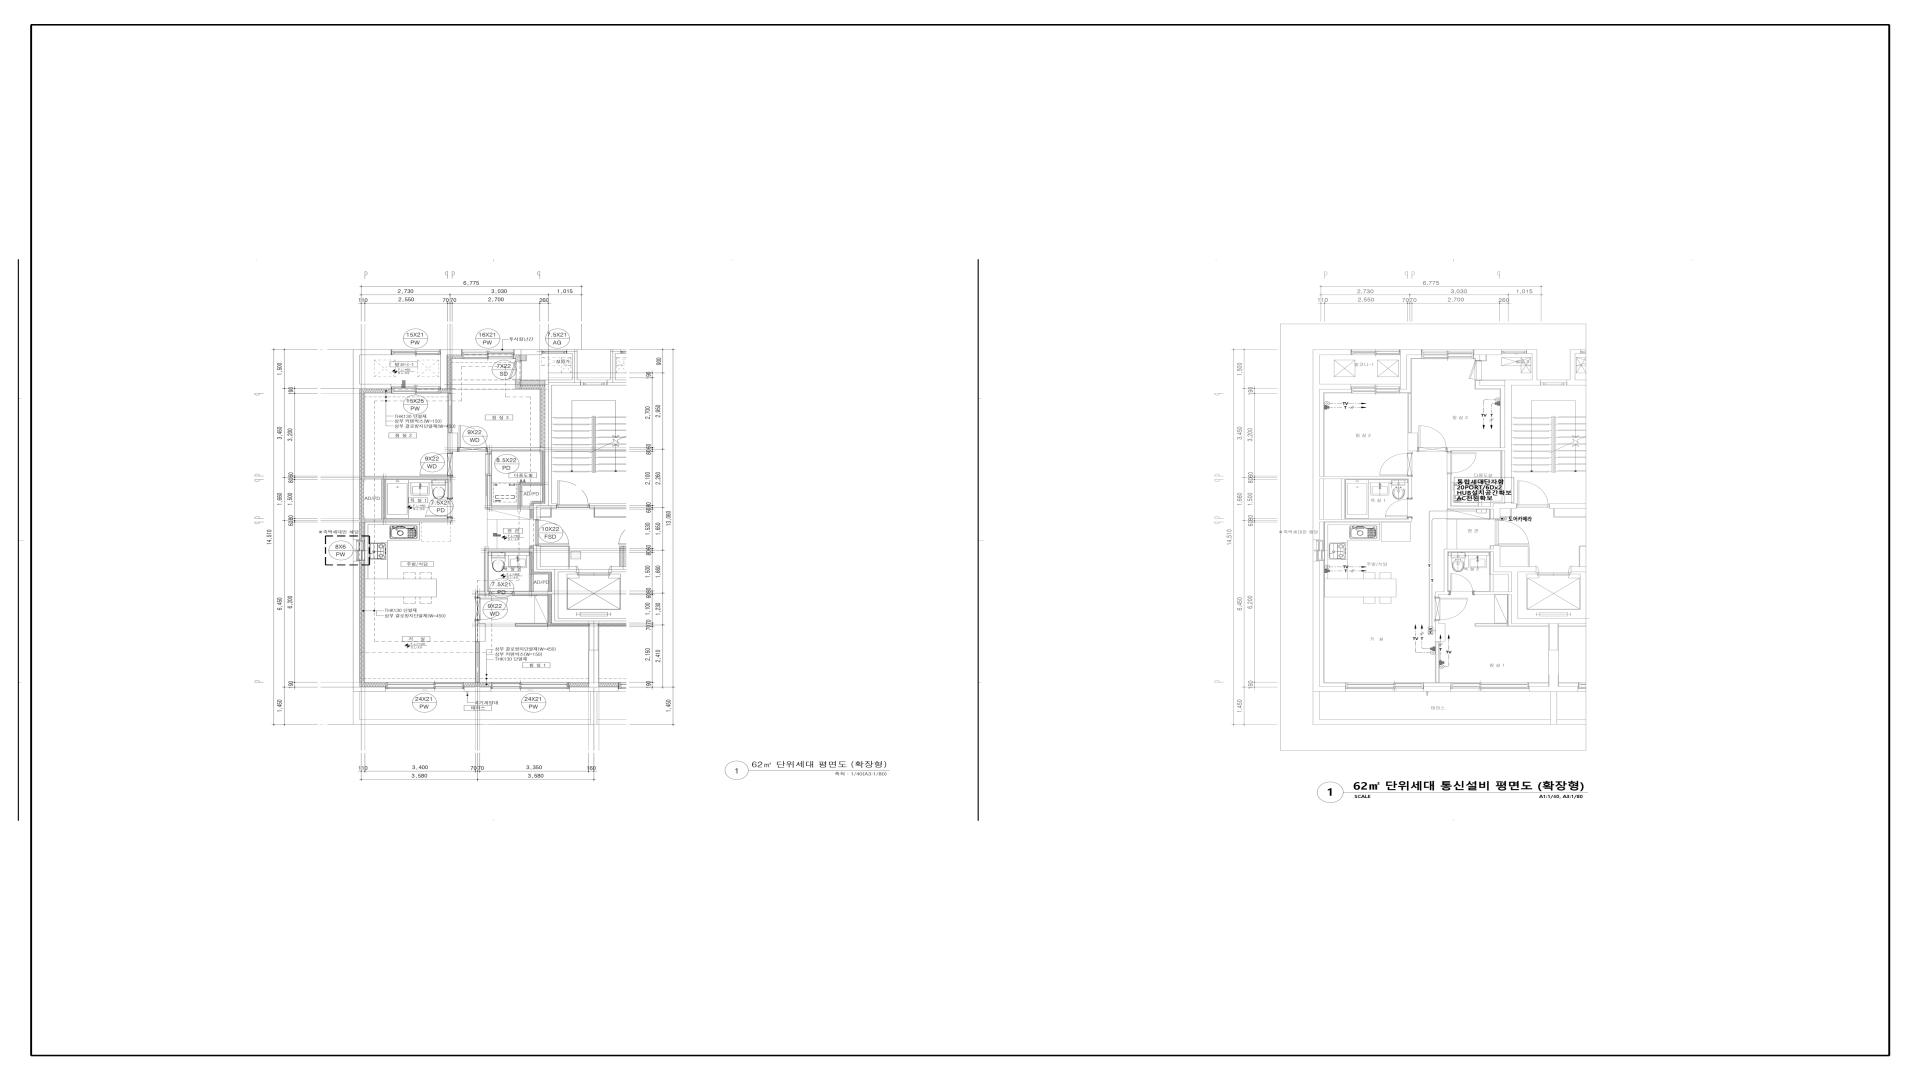door: (557, 480, 590, 509), (1495, 519, 1530, 546), (1516, 480, 1549, 508), (534, 519, 569, 545), (418, 451, 453, 476), (475, 597, 509, 621), (1418, 425, 1448, 452), (458, 425, 488, 452), (1379, 452, 1412, 476), (1435, 597, 1468, 621), (1447, 452, 1477, 474), (425, 497, 452, 518), (1384, 498, 1412, 518), (1449, 573, 1474, 595), (1469, 360, 1482, 380), (509, 361, 522, 380), (486, 453, 491, 476), (581, 383, 607, 385)
wall: (1474, 546, 1586, 624), (534, 545, 630, 624), (353, 349, 391, 519), (1313, 476, 1412, 540), (1447, 448, 1517, 519), (1313, 350, 1351, 476), (1313, 561, 1346, 692), (353, 561, 386, 692), (1505, 350, 1540, 448), (569, 624, 618, 692), (360, 561, 386, 687), (475, 549, 534, 597), (1435, 549, 1493, 597), (359, 389, 391, 476), (359, 476, 452, 498), (515, 380, 545, 448), (486, 475, 534, 509), (548, 594, 589, 627), (545, 350, 581, 385), (1529, 673, 1578, 692), (530, 552, 552, 592), (545, 380, 552, 503), (1400, 350, 1422, 389), (441, 350, 462, 389), (441, 355, 462, 393), (531, 451, 545, 507), (607, 350, 626, 385), (1567, 350, 1586, 385), (447, 393, 458, 451), (519, 483, 542, 506), (1549, 624, 1559, 673), (353, 518, 452, 522), (534, 503, 557, 519), (488, 448, 552, 453), (1549, 503, 1586, 509), (1435, 621, 1445, 642), (475, 621, 485, 642), (475, 642, 480, 682), (359, 479, 364, 519), (590, 504, 630, 509), (1408, 433, 1418, 451), (1424, 686, 1451, 692), (619, 546, 626, 567), (1474, 350, 1502, 355), (514, 350, 542, 355), (464, 682, 491, 687), (464, 687, 491, 692), (515, 623, 548, 627), (353, 522, 360, 540), (1480, 380, 1505, 385), (382, 479, 385, 519), (514, 592, 552, 595), (569, 682, 589, 687), (611, 567, 630, 572), (599, 682, 618, 687), (360, 522, 365, 540), (1571, 567, 1586, 572), (514, 355, 526, 361), (530, 574, 534, 592), (599, 624, 630, 626), (530, 509, 534, 519), (1480, 355, 1486, 361)
window: (491, 682, 569, 692), (386, 682, 464, 689), (1346, 682, 1424, 689), (1451, 682, 1529, 689), (1421, 350, 1474, 359), (462, 350, 514, 359), (391, 387, 441, 393), (1351, 387, 1400, 393), (1351, 350, 1400, 355), (356, 540, 365, 561), (1316, 540, 1325, 561), (391, 349, 441, 352), (542, 350, 567, 354), (1540, 382, 1567, 385), (1502, 351, 1527, 354), (1581, 350, 1586, 354)
